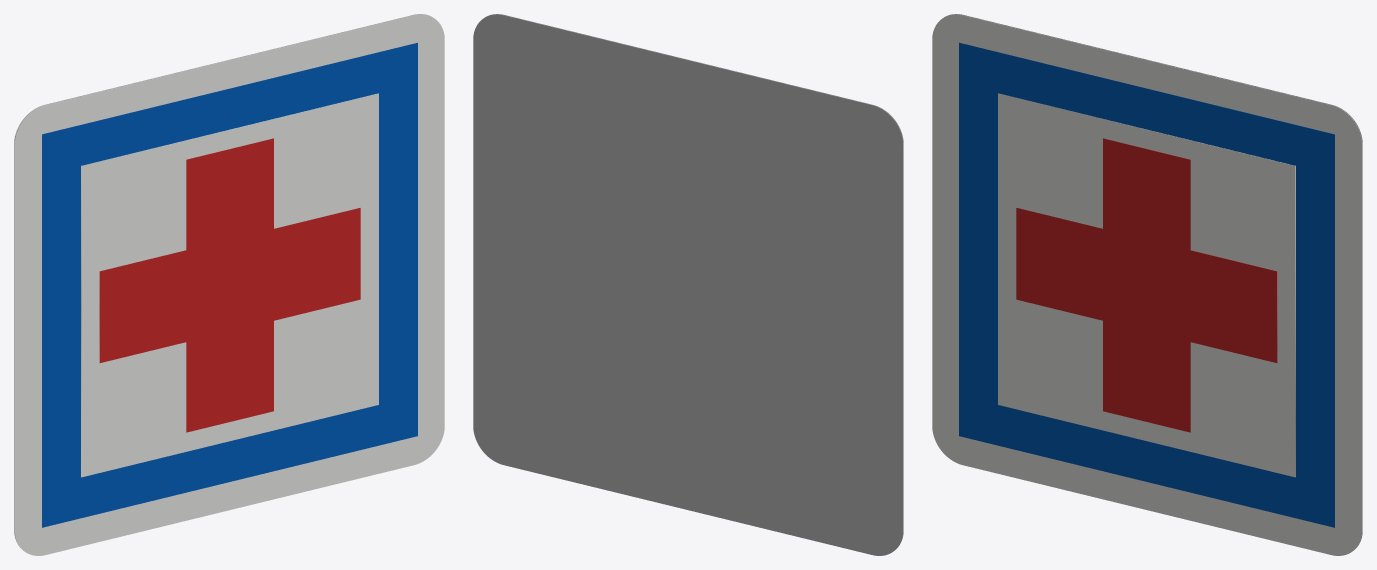
The picture shows the model from 3 angles, left to right: view 1: azimuth 30°, elevation 25°; view 2: azimuth 150°, elevation 25°; view 3: azimuth 330°, elevation 25°; orthographic projection.
Parts seen in each view (by area): view 1: CE1_p01, CE1_p02, CE1_p00, CE1_p03, CE1_dos; view 2: CE1_dos, CE1_p00; view 3: CE1_p01, CE1_p02, CE1_p00, CE1_p03, CE1_dos.
Part boxes in pixels (left/top/right/bottom): CE1_p01: left=42, top=42, right=417, bottom=527; CE1_p02: left=81, top=93, right=378, bottom=477; CE1_p00: left=14, top=14, right=444, bottom=555; CE1_p03: left=99, top=138, right=360, bottom=432; CE1_dos: left=14, top=14, right=431, bottom=547; CE1_dos: left=473, top=14, right=903, bottom=555; CE1_p00: left=486, top=14, right=903, bottom=547; CE1_p01: left=959, top=42, right=1334, bottom=527; CE1_p02: left=998, top=93, right=1295, bottom=477; CE1_p00: left=932, top=14, right=1362, bottom=555; CE1_p03: left=1016, top=138, right=1277, bottom=432; CE1_dos: left=945, top=14, right=1362, bottom=547.
Size of the model in its own units: 0.7 by 0.6999 by 0.0031.
